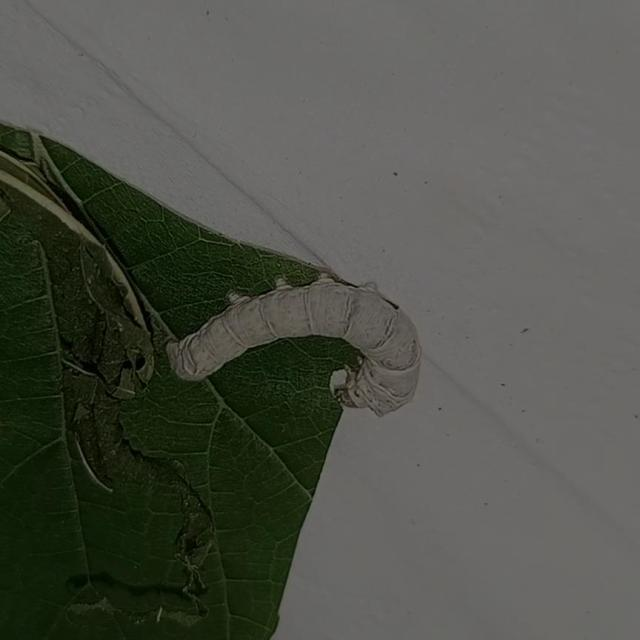Healthy: (165, 264, 426, 432)
